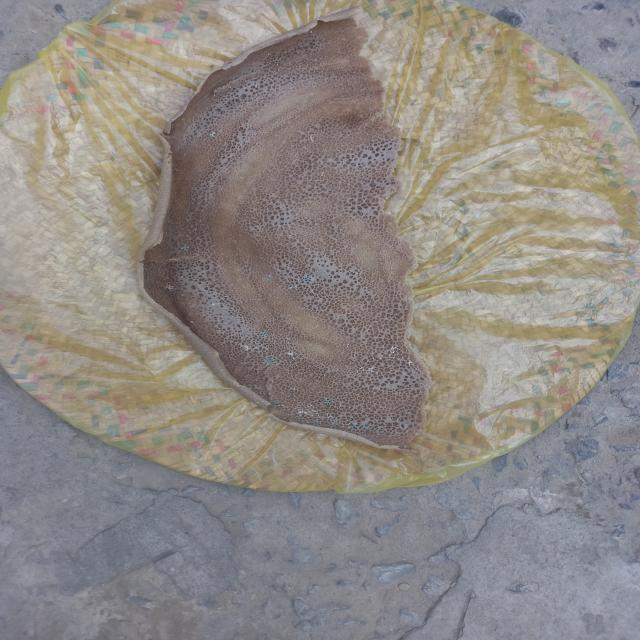injera_mold: (294, 403, 320, 416), (293, 417, 319, 428), (357, 365, 378, 376), (394, 416, 408, 430), (348, 423, 371, 431), (387, 346, 405, 355), (326, 418, 340, 428), (300, 276, 314, 284), (263, 356, 274, 366), (242, 344, 253, 353), (163, 284, 177, 291), (322, 398, 334, 406), (287, 350, 296, 359), (287, 385, 297, 393), (404, 359, 415, 366), (288, 284, 299, 291), (210, 301, 221, 308), (181, 244, 190, 251), (284, 336, 294, 342), (208, 132, 216, 138), (272, 400, 281, 405), (259, 332, 267, 336), (188, 320, 195, 324), (267, 275, 272, 280)
